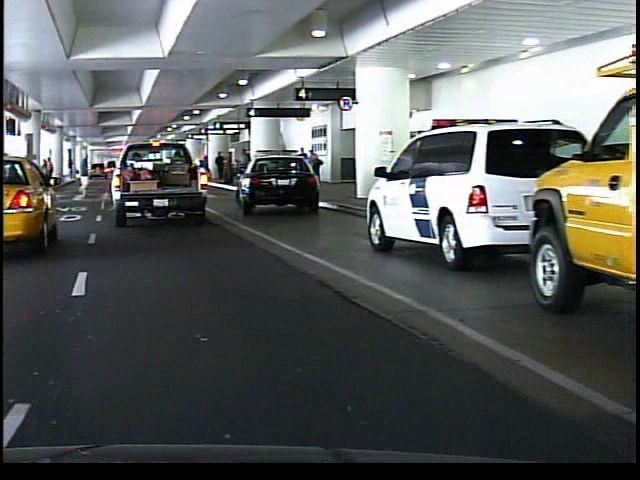person: (73, 152, 91, 198)
